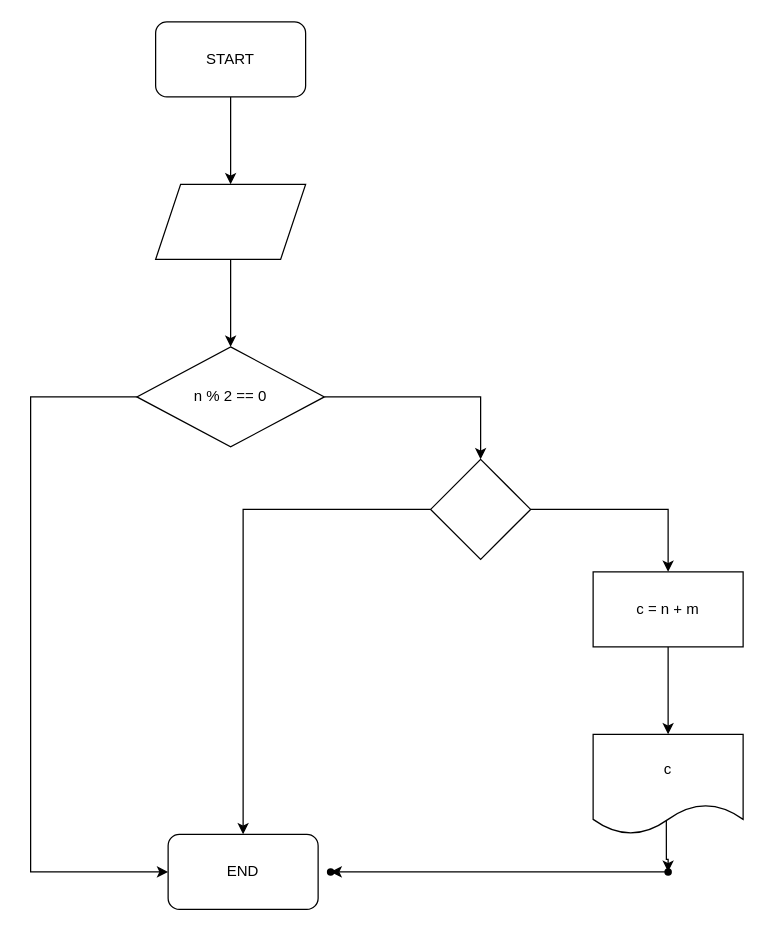
Image size: 765x931. Some labels were removed from this diagram. The shapes that lost their labels are listed below. From the top down, each one's box as (x1, y1, x2, y2) in pixels, then its label:
(154, 183, 306, 259): n, m
(429, 458, 531, 559): m % 2 == 0
